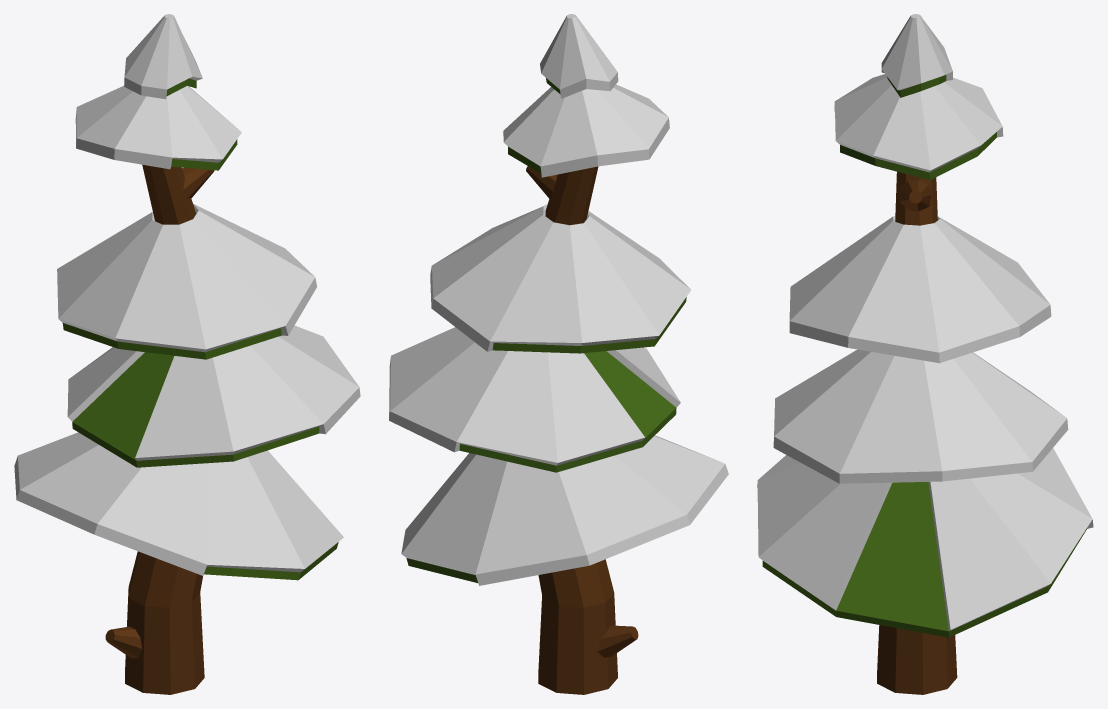
The model's file is Tree_08.fbx.
The picture shows the model from 3 angles, left to right: view 1: azimuth 30°, elevation 25°; view 2: azimuth 150°, elevation 25°; view 3: azimuth 270°, elevation 25°; orthographic projection.
Visible parts, largest first — view 1: Tree_08; view 2: Tree_08; view 3: Tree_08.
Boxes of the visible parts, box(x1,y1,x2,y2) form: Tree_08: box(14, 14, 360, 694); Tree_08: box(389, 14, 728, 694); Tree_08: box(757, 14, 1093, 694).
Bounding box in the file's own units: 256 × 532 × 244.
